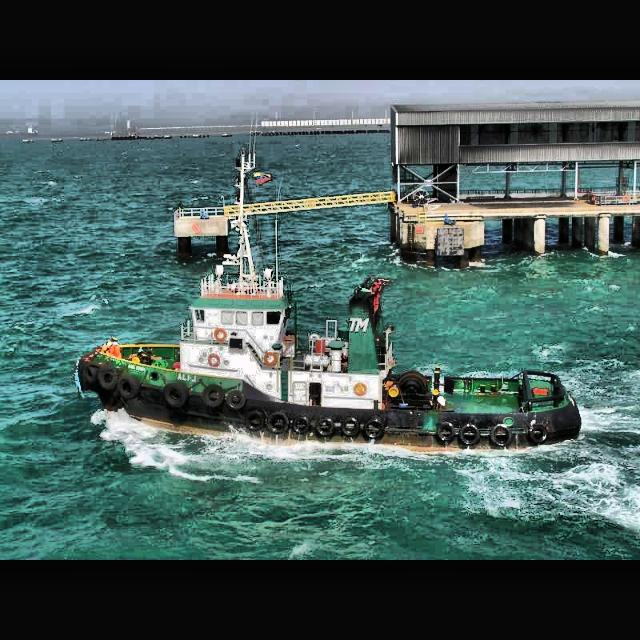tug: (74, 252, 584, 458)
